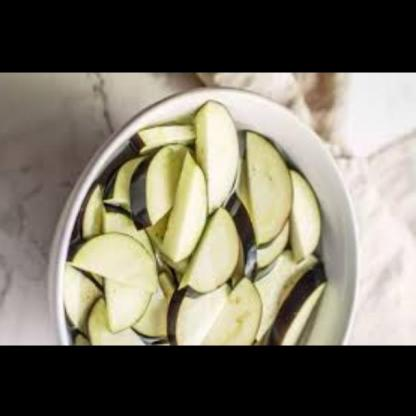eggplant: (86, 94, 333, 344)
